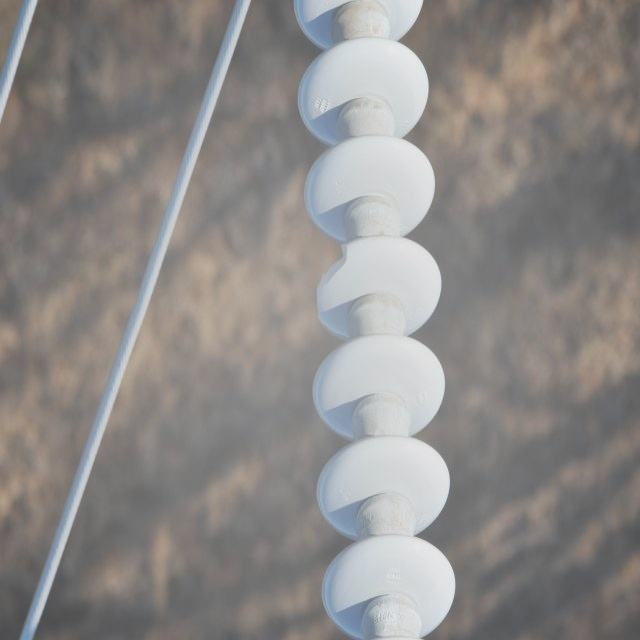broken: (310, 240, 351, 328)
insulator: (290, 0, 458, 631)
